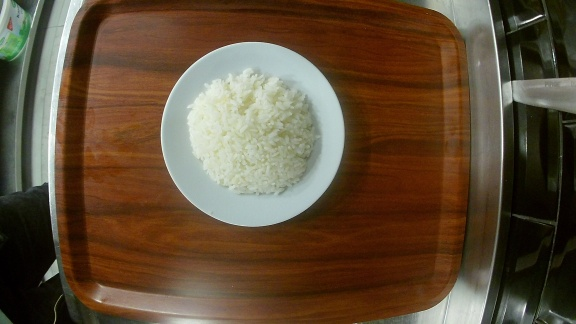pilav: (161, 42, 345, 229)
